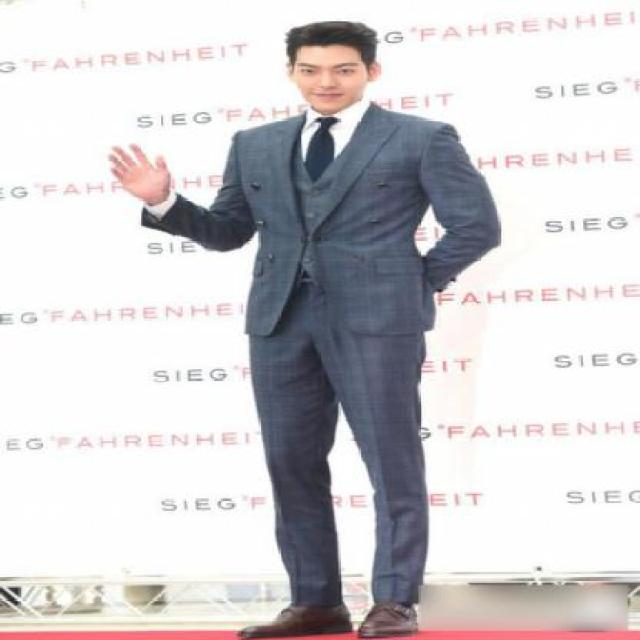Person: (145, 17, 468, 638)
